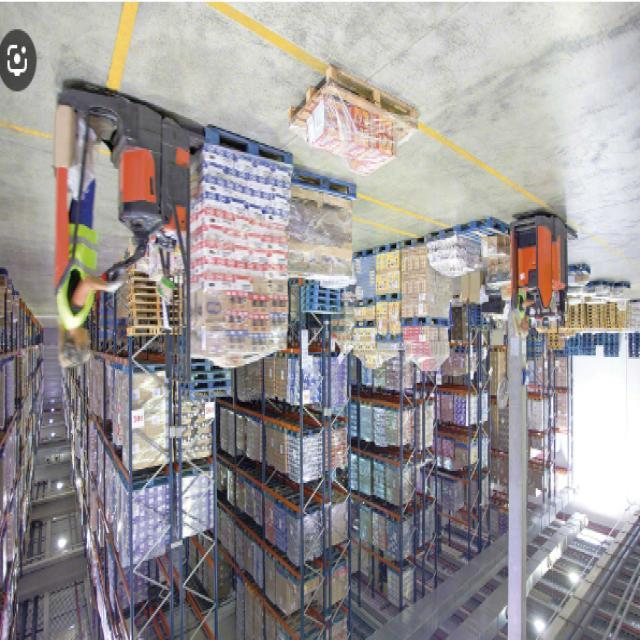vest: (53, 219, 100, 335)
